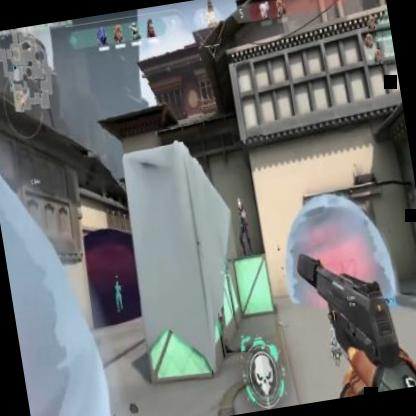enemy: (234, 200, 253, 257)
enemy_head: (236, 198, 242, 208)
